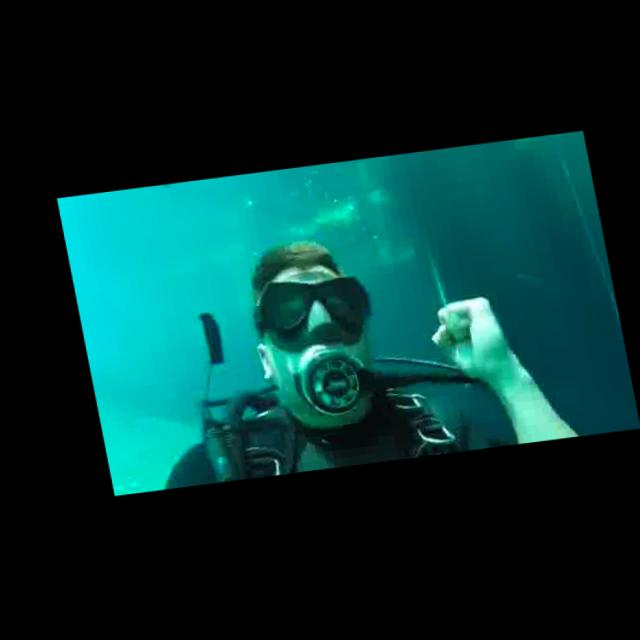human: (62, 209, 605, 496)
